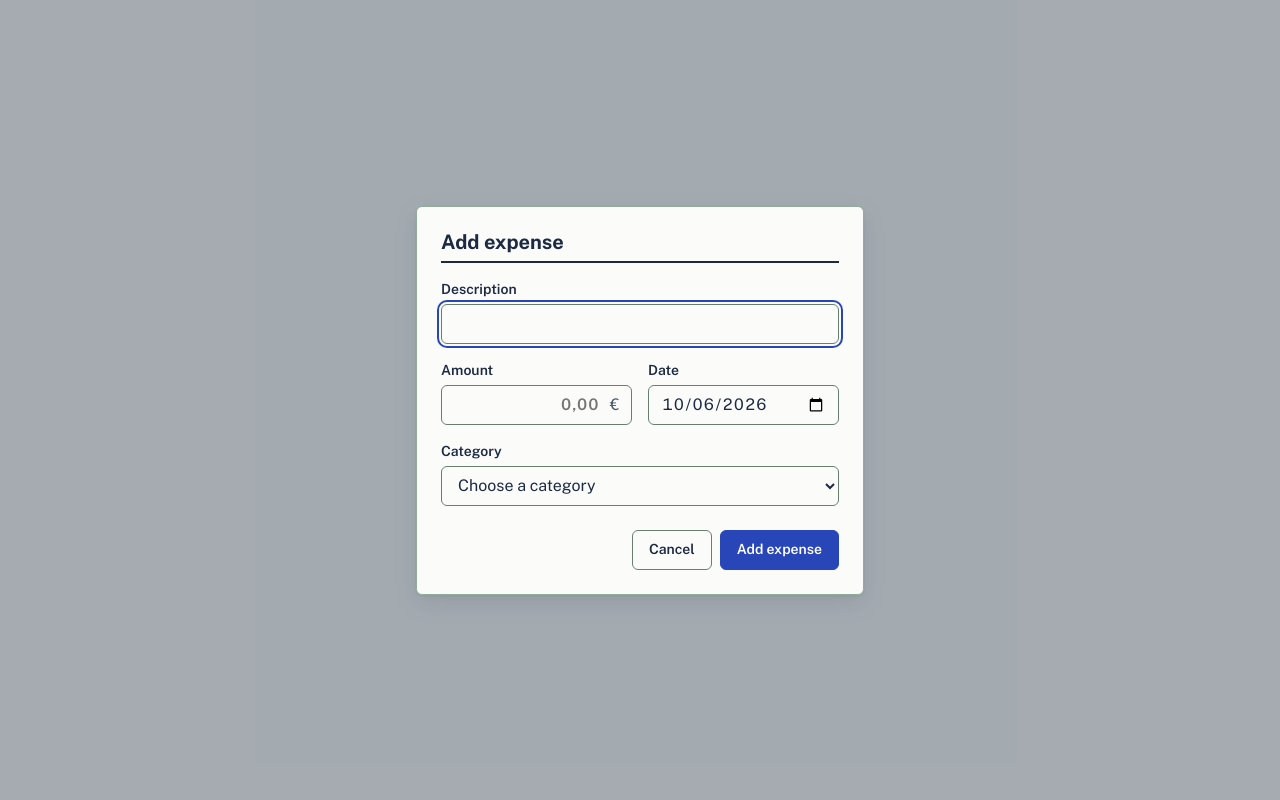
Test case: rejects the amount -5
Type "Bus" into the field labelled "Description" at (640, 324), box [441,304,839,344]
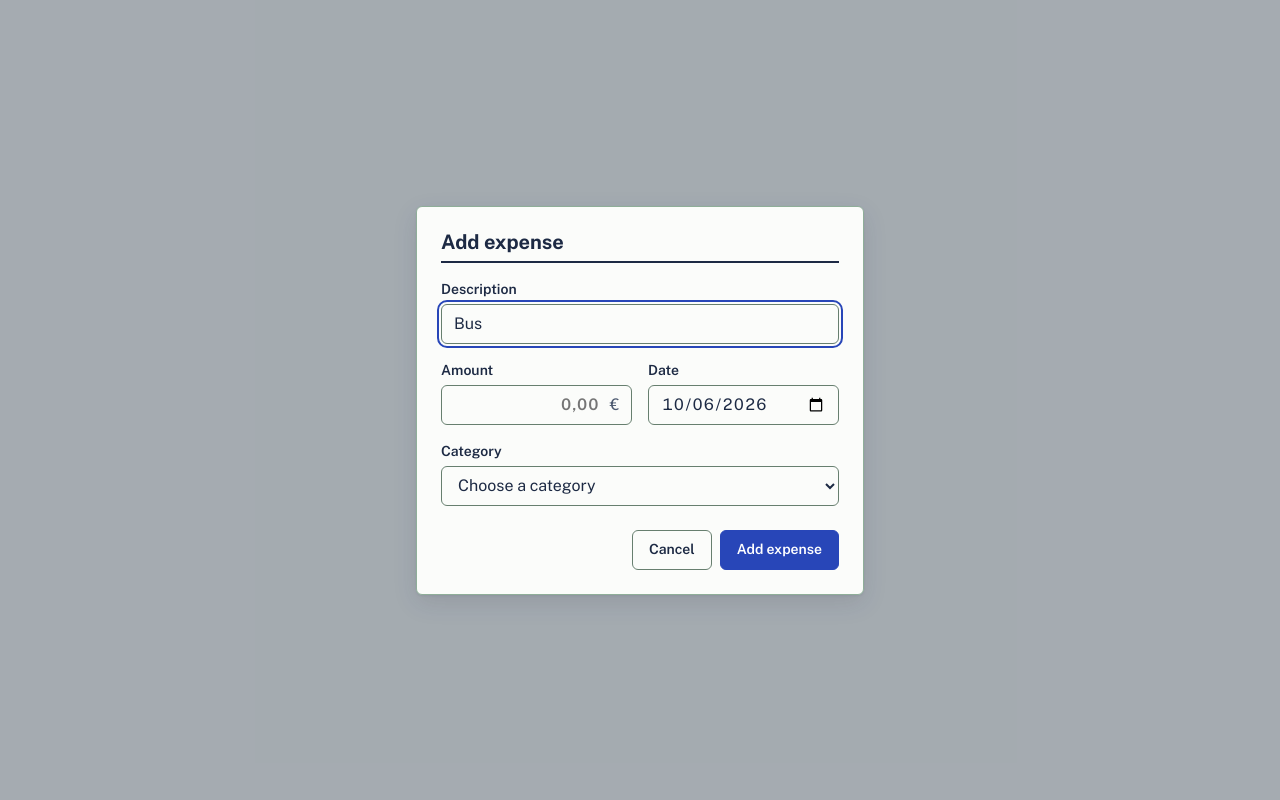
Type "-5" into the field labelled "Amount" at (536, 404), box [441,384,632,424]
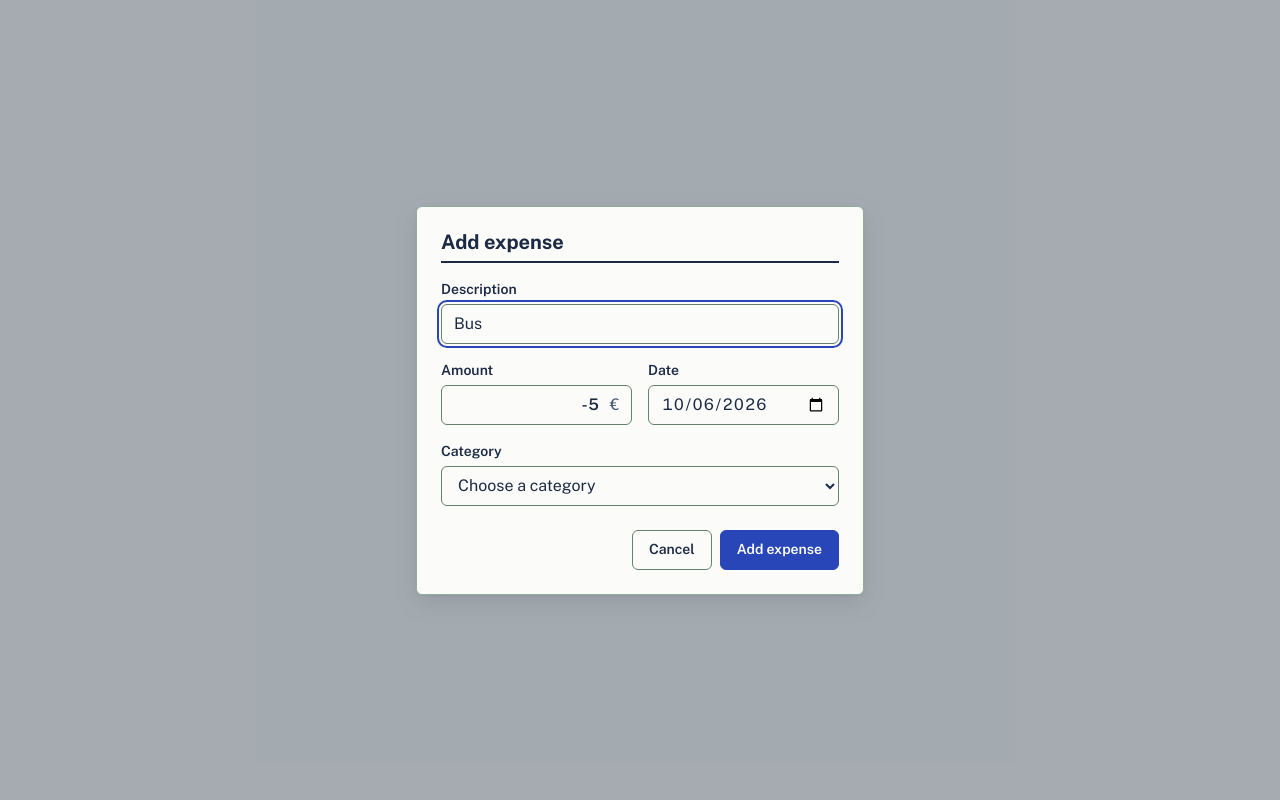
Select "Transport" in the dropdown labelled "Category" at (640, 486), box [441,466,839,506]
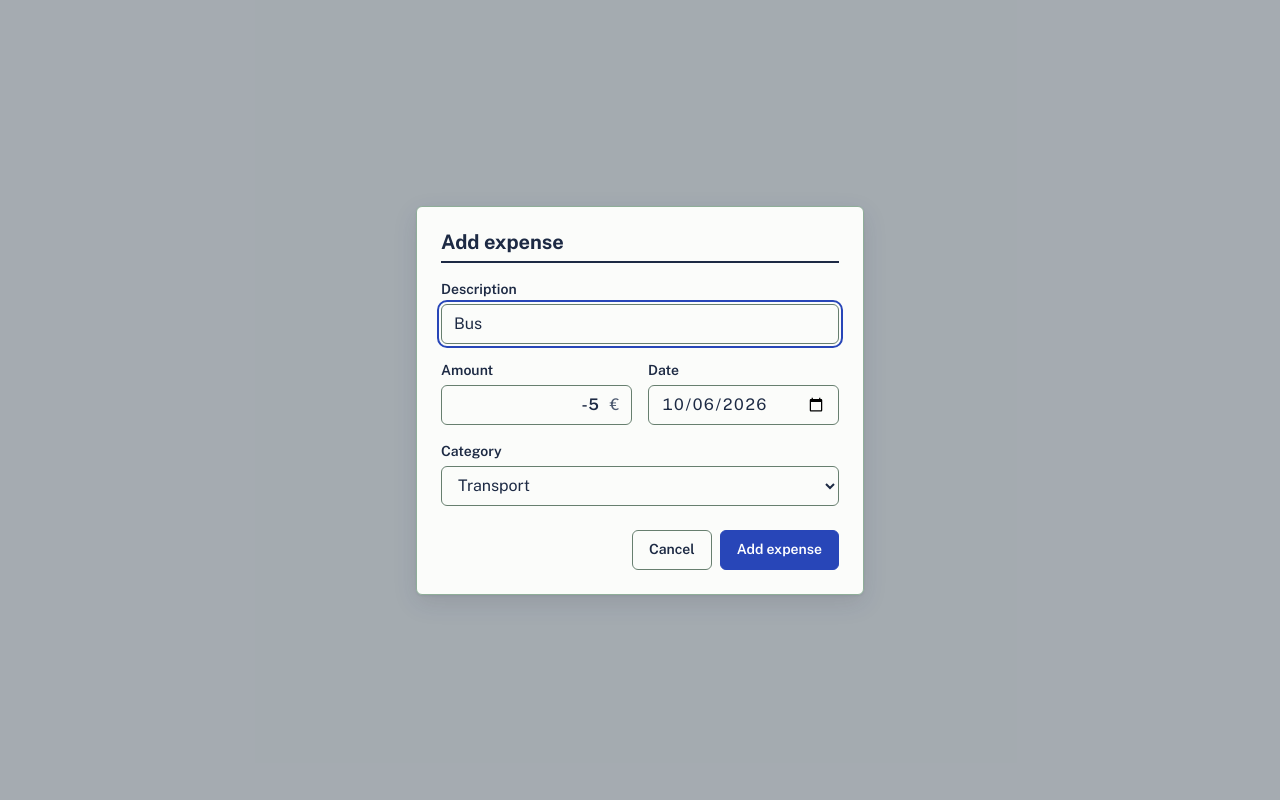
Click the button "Add expense" at (779, 550), box [720,530,839,570]
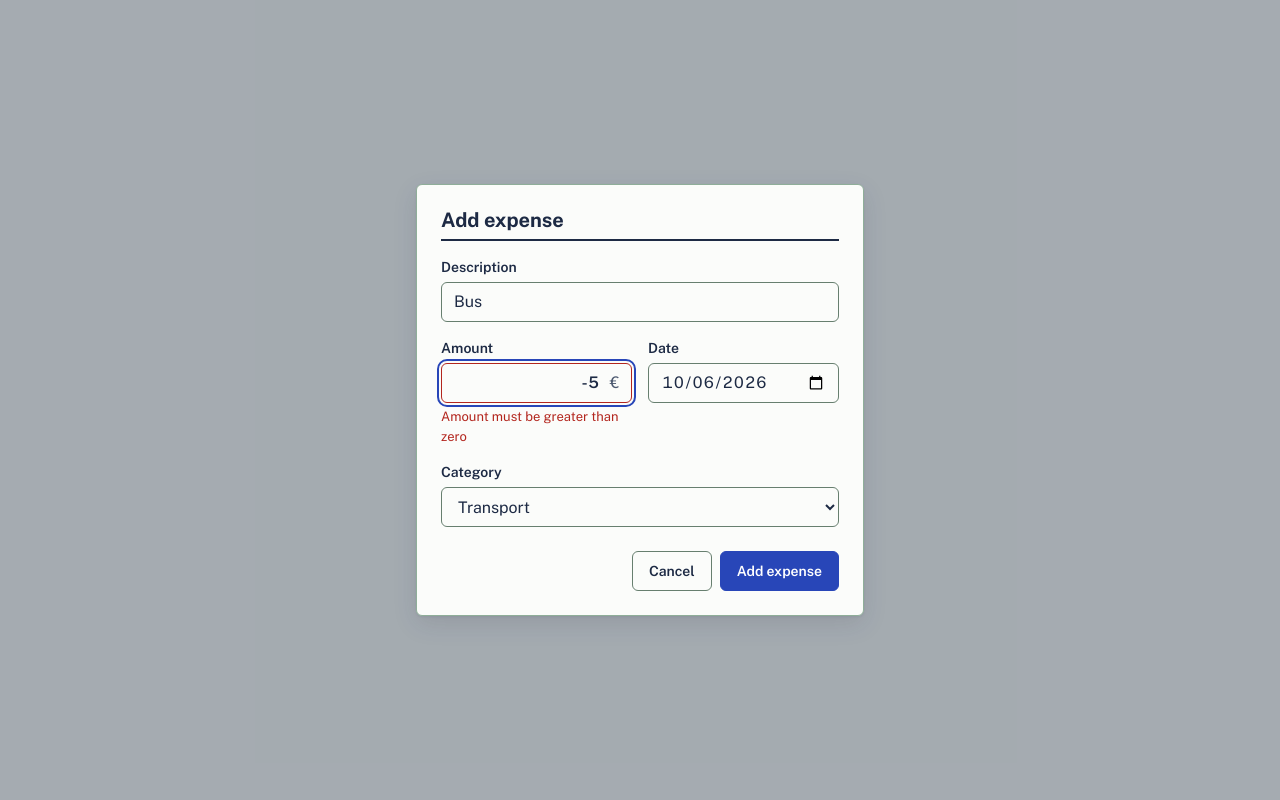
Result: the text "Amount must be greater than zero" is shown at [441,407,632,446]
